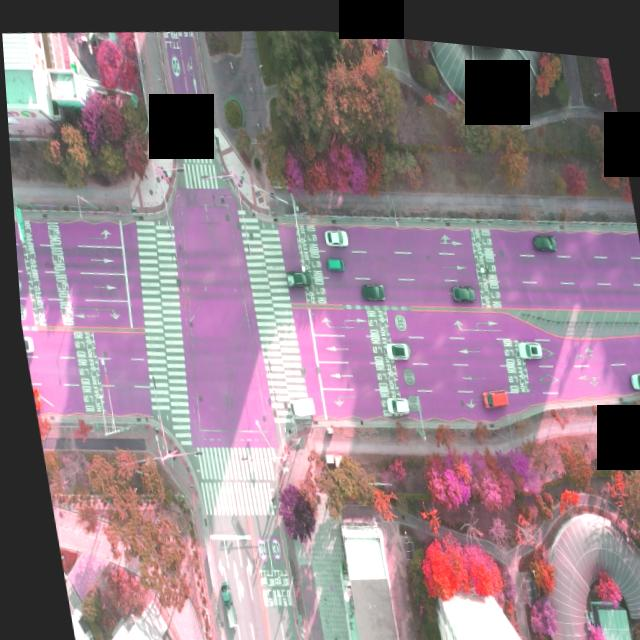car: (474, 376, 504, 401), (377, 331, 406, 353), (511, 329, 539, 351), (317, 220, 346, 241), (527, 221, 552, 243), (355, 273, 380, 294), (447, 273, 472, 294), (378, 386, 403, 407), (279, 263, 304, 283), (625, 357, 640, 380), (321, 248, 341, 264), (624, 626, 639, 640)
small_truck: (208, 572, 230, 624), (282, 389, 311, 414)
